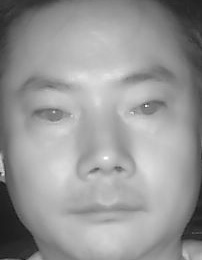eye: (30, 102, 75, 126), (126, 97, 168, 121)
mouth: (72, 193, 146, 232)
